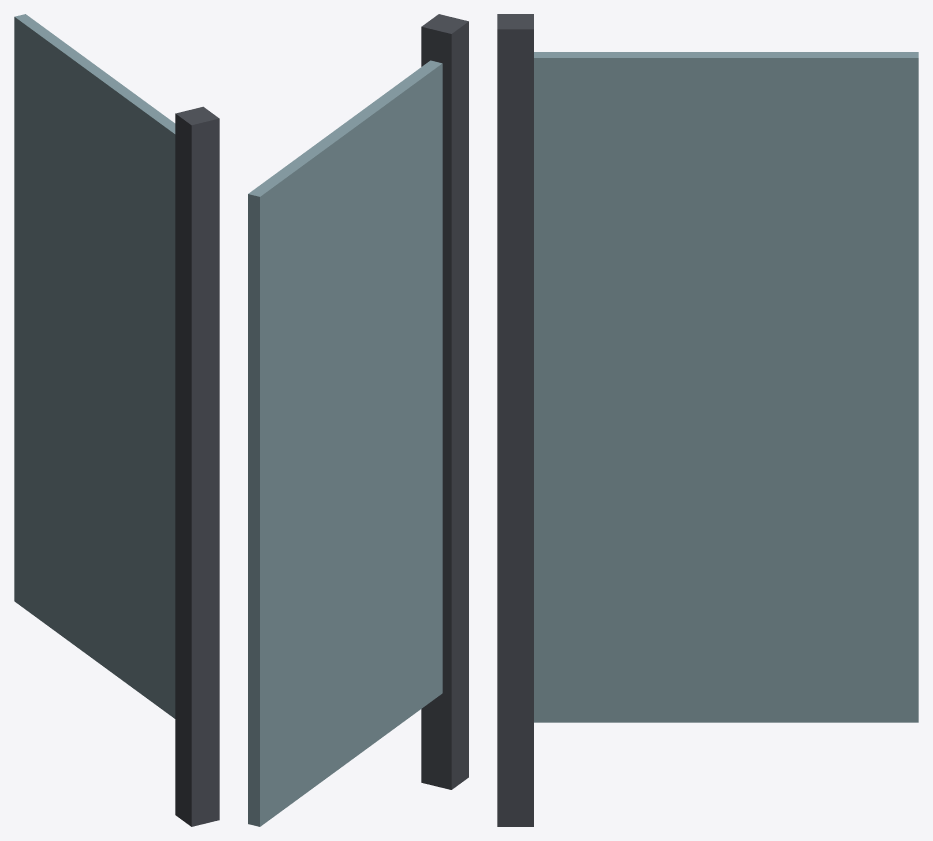
The model's file is shelter_side.glb.
3 renders of one model, left to right at view 1: azimuth 30°, elevation 25°; view 2: azimuth 150°, elevation 25°; view 3: azimuth 270°, elevation 25°, orthographic. The views are drawn at different scales.
Visible parts, largest first — view 1: placeholder; view 2: placeholder; view 3: placeholder.
Part boxes in pixels (x1,y1,x2,y2): placeholder: (14,14,219,826); placeholder: (248,14,468,826); placeholder: (497,14,918,826).
Bounding box in the file's own units: 0.1 × 2.4 × 1.15.
